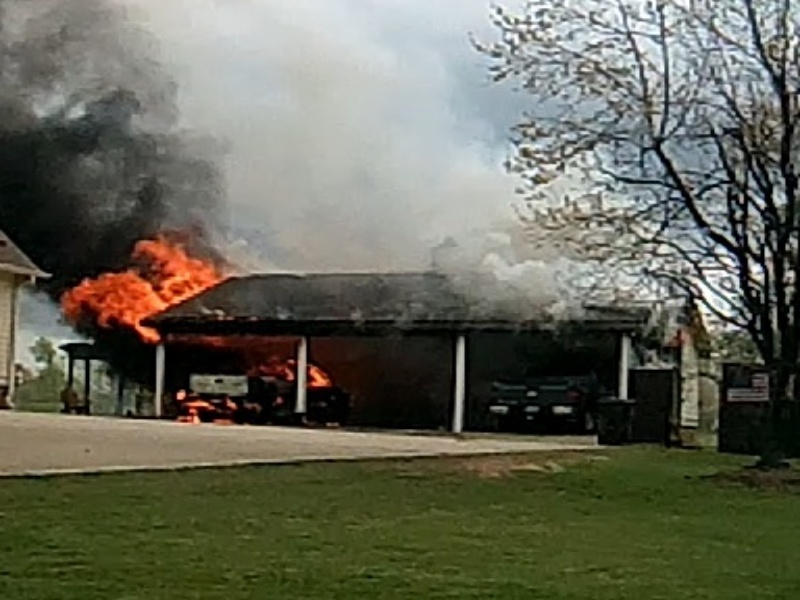smoke: (157, 1, 522, 274)
